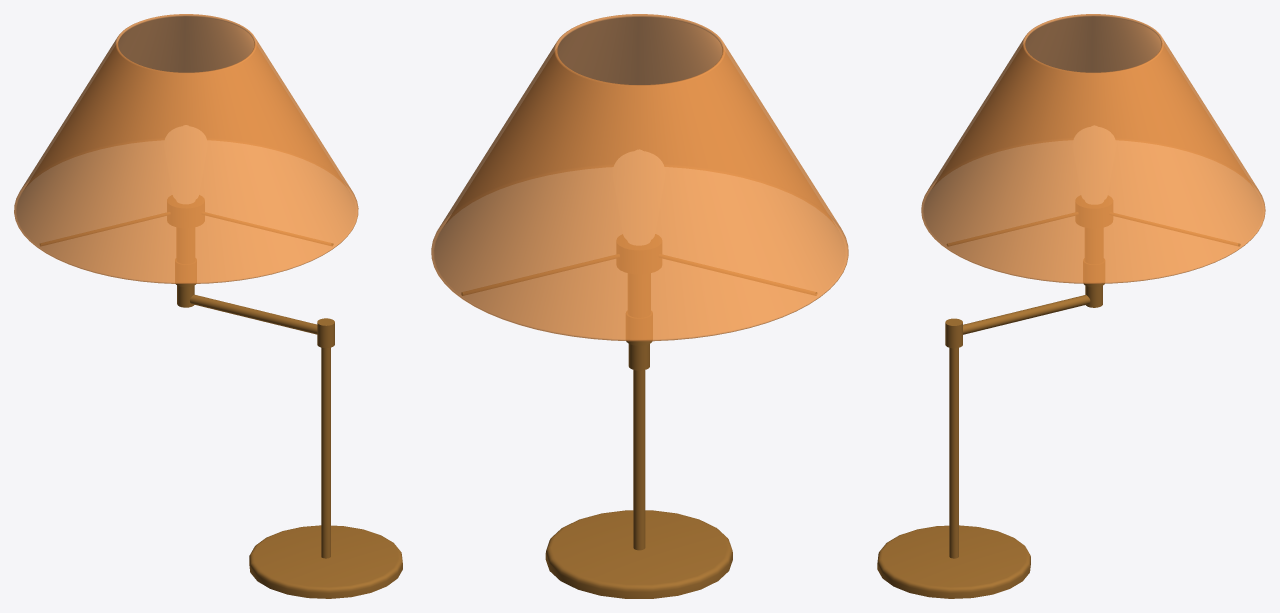
File: table-lamp.glb
The picture shows the model from 3 angles, left to right: view 1: azimuth 30°, elevation 25°; view 2: azimuth 150°, elevation 25°; view 3: azimuth 270°, elevation 25°; orthographic projection. The views are drawn at different scales.
Visible parts, largest first — view 1: Cylinder, table-lamp; view 2: Cylinder, table-lamp; view 3: Cylinder, table-lamp.
Part boxes in pixels (x1,y1,x2,y2): Cylinder: (14, 14, 358, 283); table-lamp: (40, 243, 402, 598); Cylinder: (431, 14, 848, 341); table-lamp: (461, 292, 816, 598); Cylinder: (921, 14, 1265, 283); table-lamp: (877, 243, 1240, 598).
Bounding box in the file's own units: 0.3313 × 0.5187 × 0.3734.
